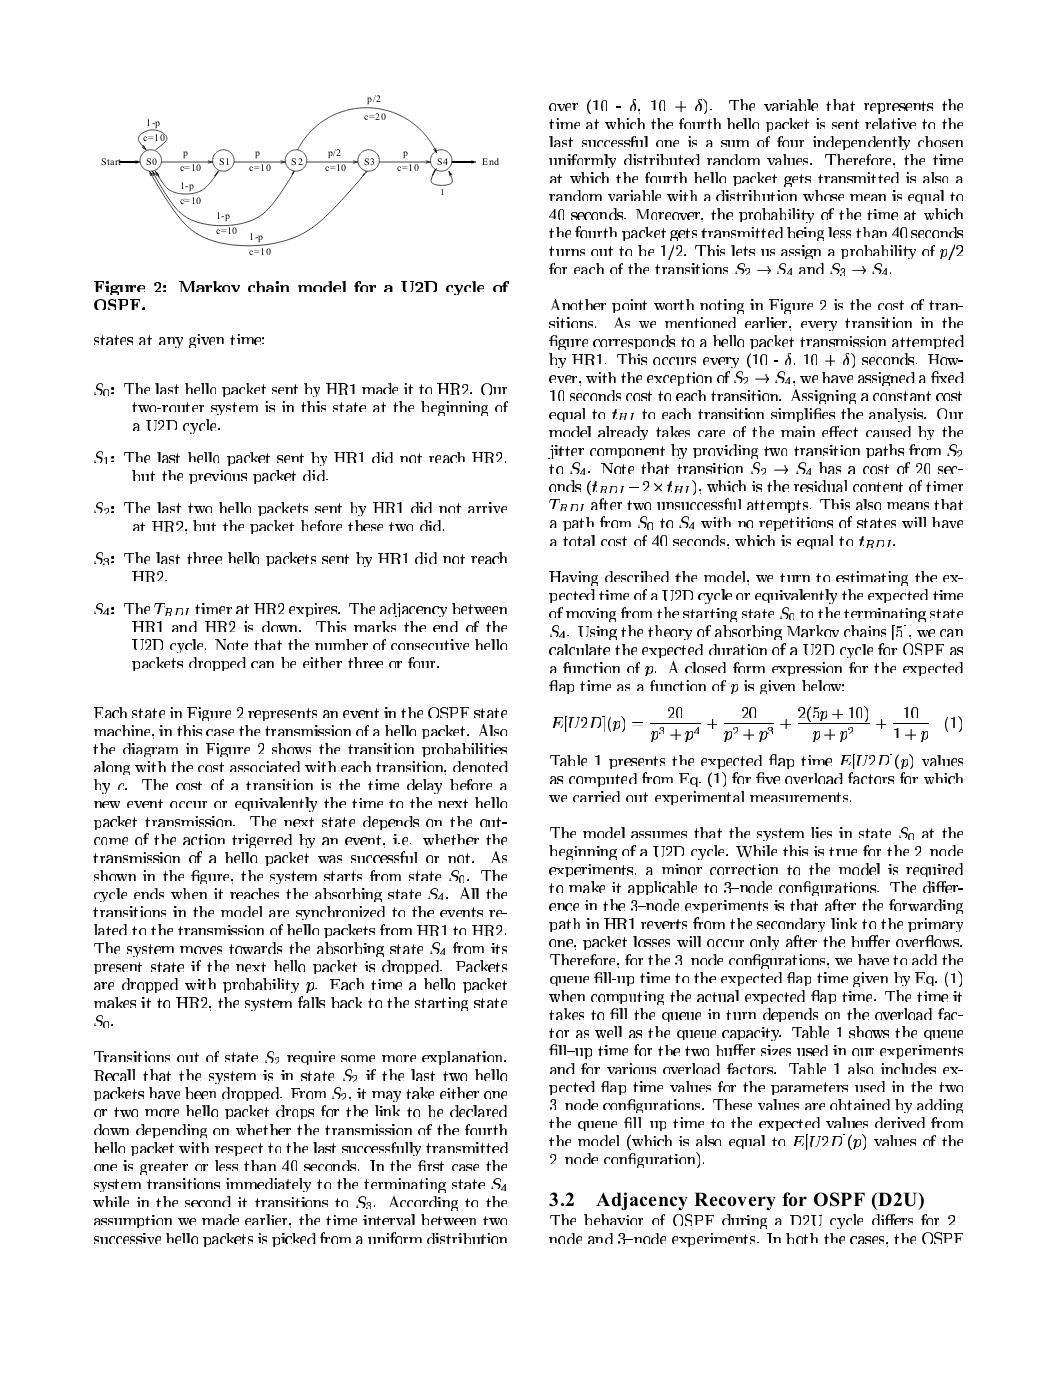figure: (101, 94, 498, 255)
formula: (552, 705, 961, 742)
